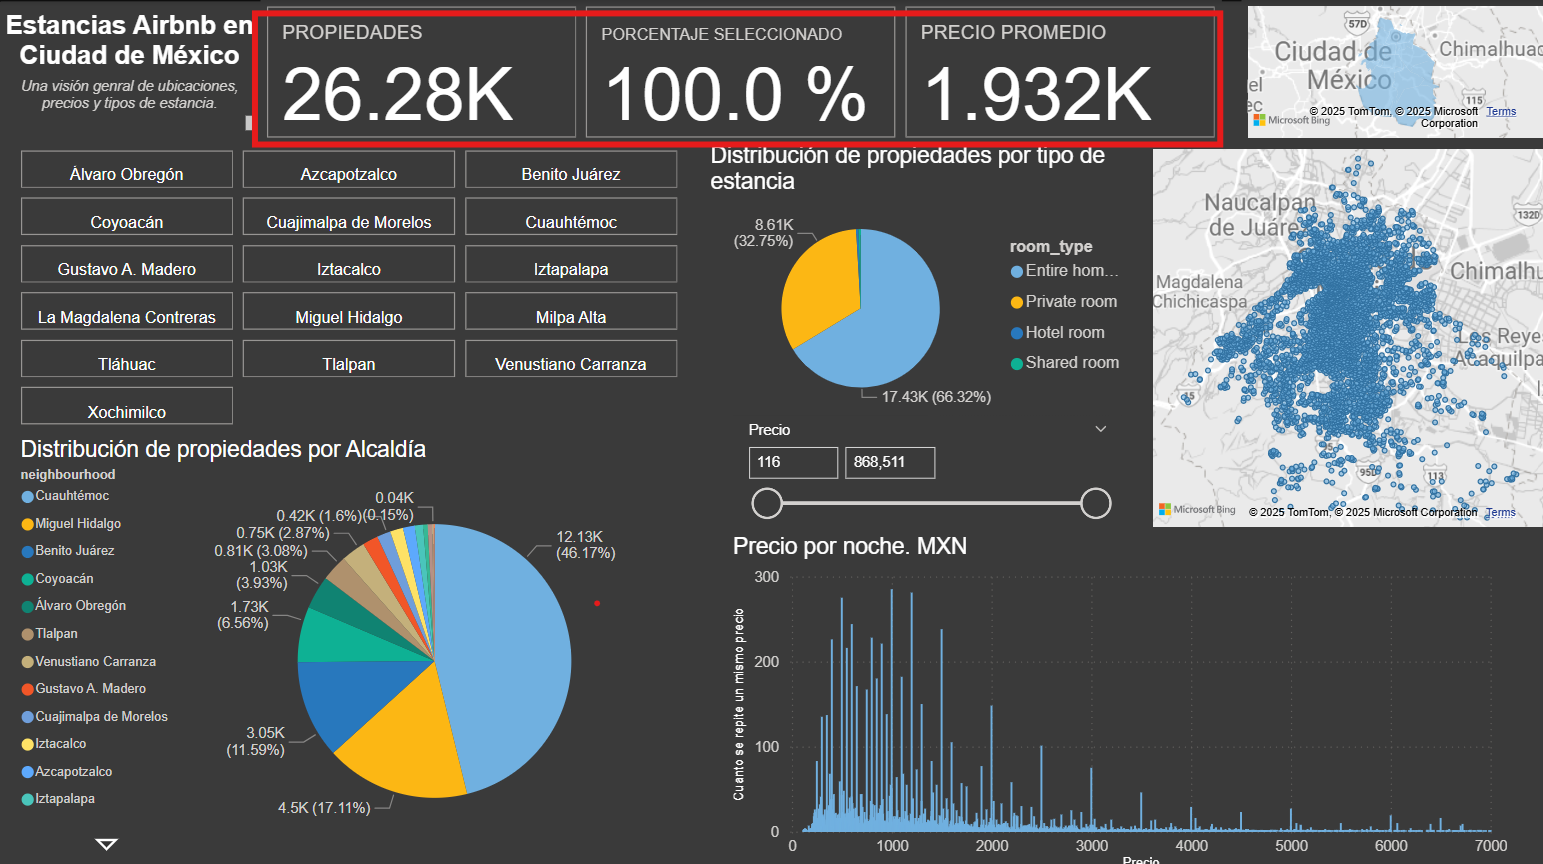

Layout of this report page (visuals, bound fields, positions):
{"tool":"powerbi","page":{"name":"Dashboard","canvas":[1280,720],"ordinal":0},"visuals":[{"type":"advancedSlicerVisual","fields":{"Values":["Sheet1.neighbourhood"]},"box":[13.7,118,553,241.5],"z":0},{"type":"map","fields":{"Y":["Sheet1.latitude"],"X":["Sheet1.longitude"]},"box":[946.2,117.6,333.9,321.7],"z":1000},{"type":"filledMap","fields":{"Category":["Sheet1.Mapa_Alcaldia"]},"box":[1024.4,0,256.4,118.6],"z":2000},{"type":"pieChart","title":"Distribución de propiedades por Alcaldía","fields":{"Category":["Sheet1.neighbourhood"],"Y":["CountNonNull(Sheet1.neighbourhood)"]},"box":[13.7,359.5,553,348.6],"z":3000},{"type":"cardVisual","title":"propiedades","fields":{"Data":["Sheet1.TOTAL PROPIEDADES","Sheet1.PercentageSelected","Sheet1.PROMEDIO PRECIOS"]},"box":[216.7,0,791.7,118.3],"z":4000},{"type":"pieChart","title":"Distribución de propiedades por tipo de estancia","fields":{"Category":["Sheet1.room_type"],"Y":["CountNonNull(Sheet1.room_type)"]},"box":[582.6,117.6,363.6,231.1],"z":5000},{"type":"textbox","title":"Estancias Airbnb en Ciudad de México","box":[0,8.2,216.8,101.6],"z":6000},{"type":"columnChart","title":"Precio por noche. MXN","fields":{"Category":["Sheet1.price"],"Y":["CountNonNull(Sheet1.price)"]},"box":[600.2,439.3,647.5,281.2],"z":7000},{"type":"slicer","fields":{"Values":["Sheet1.price"]},"box":[605.6,342,320.4,97.3],"z":8000}]}

Visuals, with their boxes in screenshot pixels (x1, y1, x2, y2), scaled from the page's 1280x720 canvas onto the 1543x864 screenshot:
advancedSlicerVisual - Sheet1.neighbourhood: [x1=17, y1=142, x2=683, y2=431]
map - Sheet1.latitude x Sheet1.longitude: [x1=1141, y1=141, x2=1542, y2=527]
filledMap - Sheet1.Mapa_Alcaldia: [x1=1235, y1=0, x2=1542, y2=142]
"Distribución de propiedades por Alcaldía" pieChart: [x1=17, y1=431, x2=683, y2=850]
"propiedades" cardVisual: [x1=261, y1=0, x2=1216, y2=142]
"Distribución de propiedades por tipo de estancia" pieChart: [x1=702, y1=141, x2=1141, y2=418]
"Estancias Airbnb en Ciudad de México" textbox: [x1=0, y1=10, x2=261, y2=132]
"Precio por noche. MXN" columnChart: [x1=724, y1=527, x2=1504, y2=863]
slicer - Sheet1.price: [x1=730, y1=410, x2=1116, y2=527]
